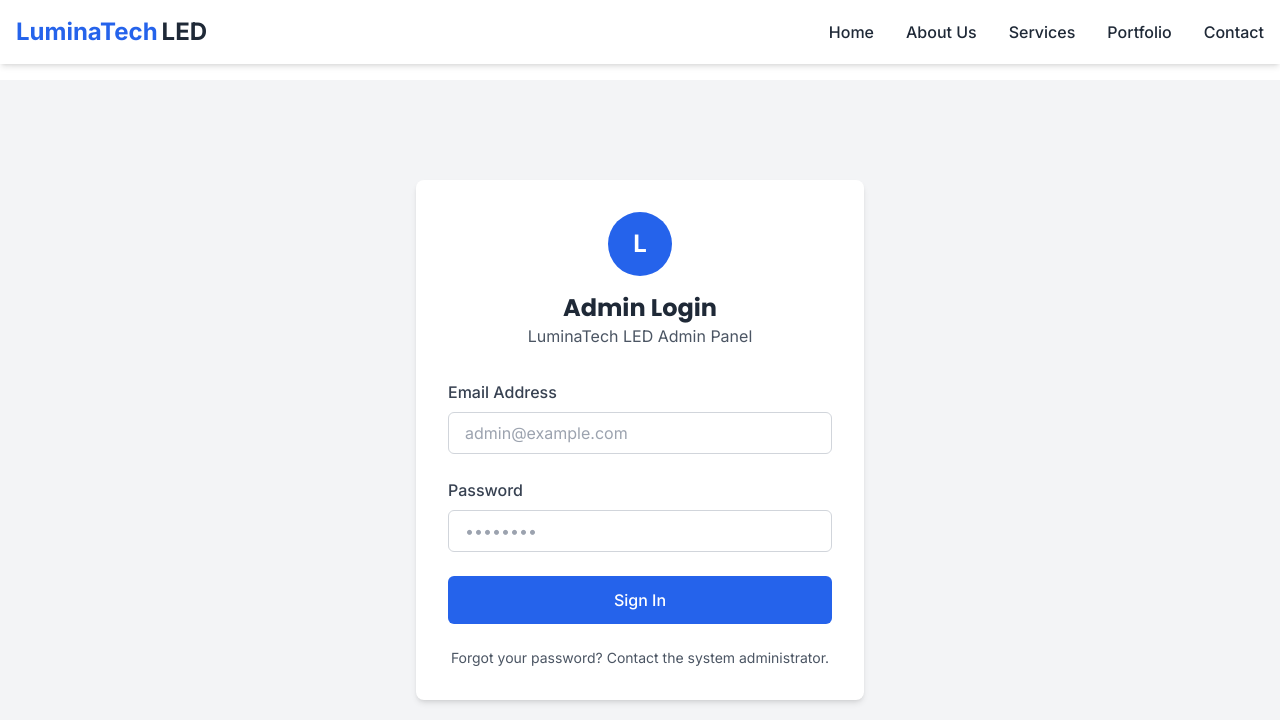
it: Authentication Flow › should show error message with invalid credentials
Check: the heading "Admin Login" is shown, box [563,291,717,324]
Note: Fill in the form with invalid credentials
Type "wrong@example.com" into the field with id "email" at (640, 433), box [448,412,832,454]
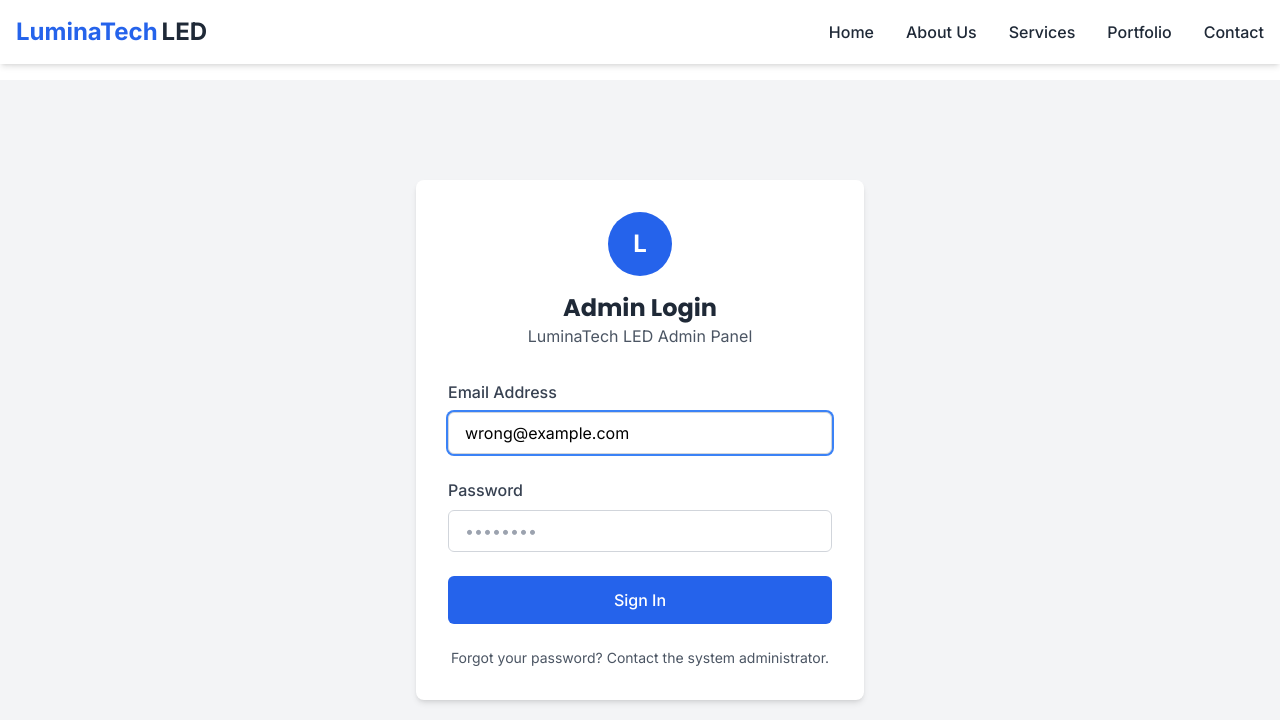
Type "wrongpassword" into the password field labelled "Password" at (640, 531), box [448,510,832,552]
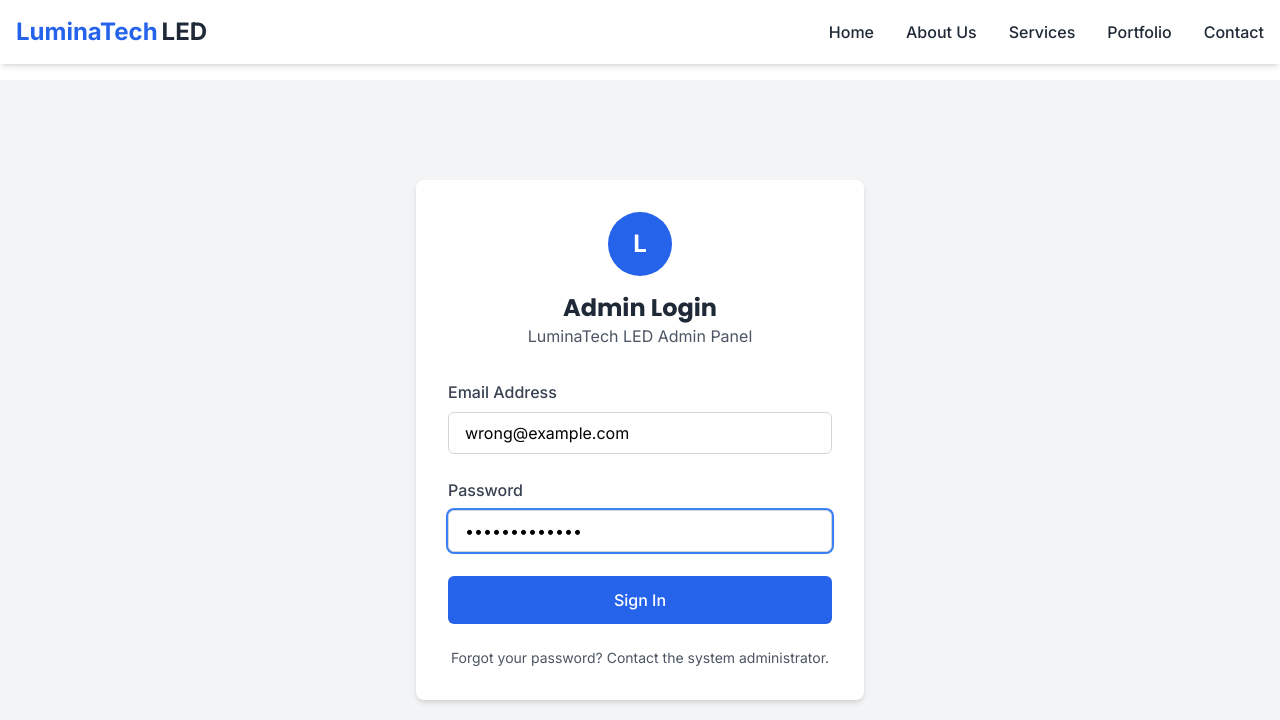
Note: Submit the form
Click the submit button at (640, 600), box [448,576,832,624]
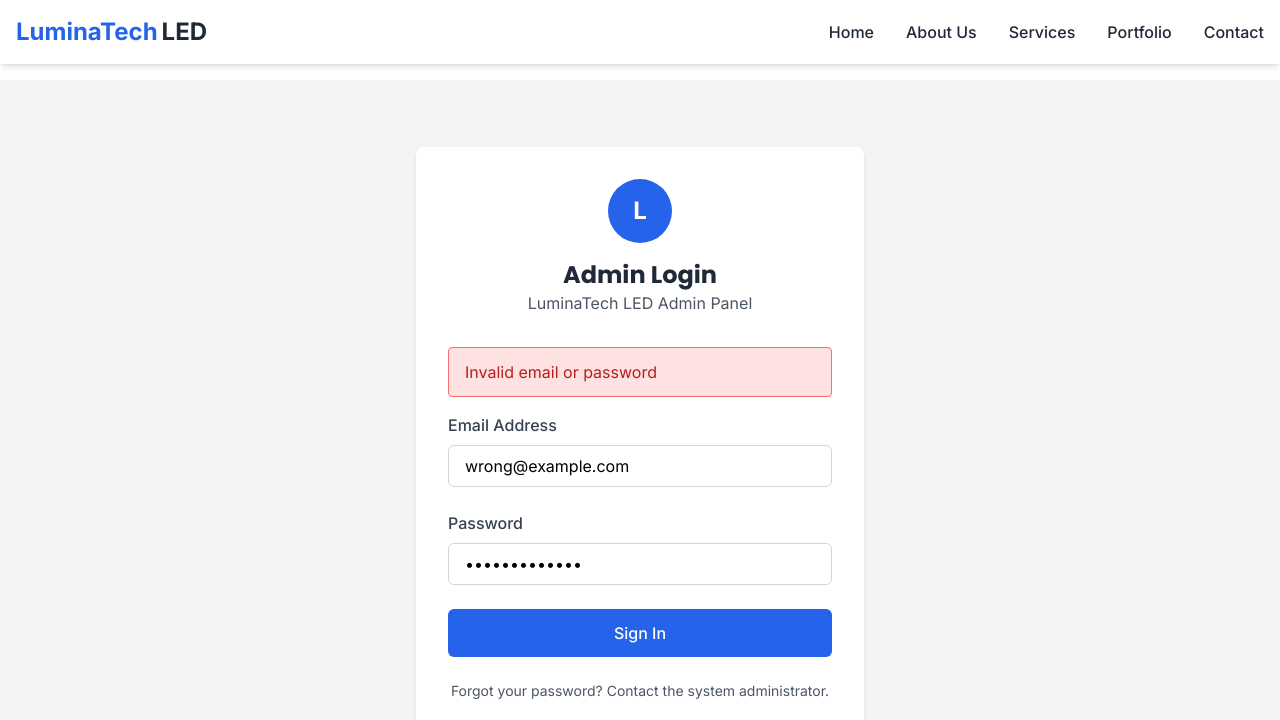
Check: the text "Invalid email or password" is shown, box [448,347,832,397]
